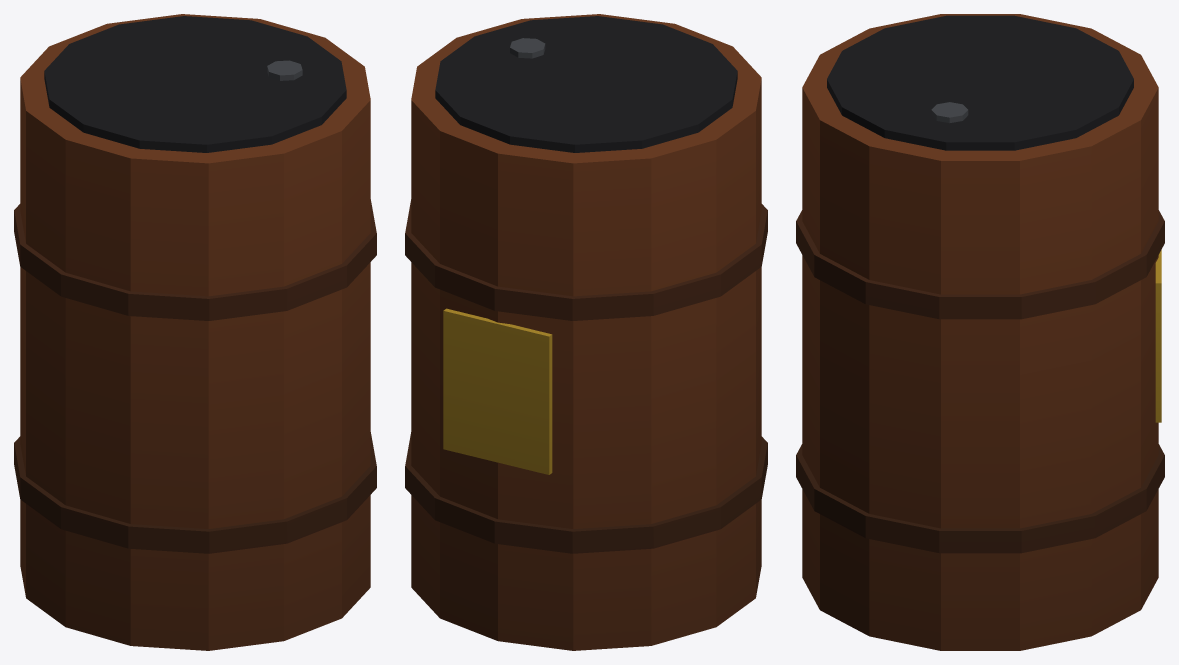
The model's file is barrel_rust.glb.
3 renders of one model, left to right at view 1: azimuth 30°, elevation 25°; view 2: azimuth 150°, elevation 25°; view 3: azimuth 270°, elevation 25°, orthographic.
Parts seen in each view (by area): view 1: barrel_rust; view 2: barrel_rust; view 3: barrel_rust.
Boxes of the visible parts, bbox=[...] form: barrel_rust: bbox=[14, 14, 376, 650]; barrel_rust: bbox=[405, 14, 767, 650]; barrel_rust: bbox=[796, 14, 1164, 650].
Size of the model in its own units: 0.585 by 0.905 by 0.6.
